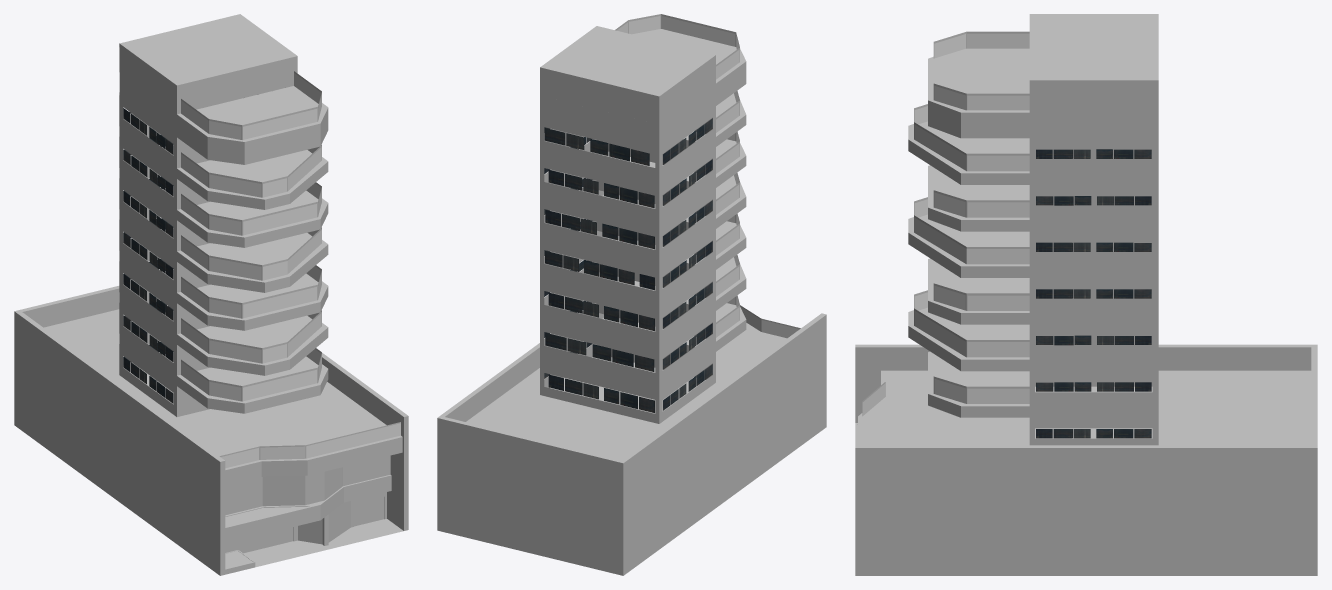
3 renders of one model, left to right at view 1: azimuth 30°, elevation 25°; view 2: azimuth 150°, elevation 25°; view 3: azimuth 270°, elevation 25°, orthographic. The views are drawn at different scales.
Parts seen in each view (by area): view 1: BB-046; view 2: BB-046; view 3: BB-046.
Boxes of the visible parts, x1,y1,x2,y2 form: BB-046: [14, 14, 408, 575]; BB-046: [437, 14, 826, 575]; BB-046: [855, 14, 1317, 575].
Size of what is drawn, in the model's own units: 19.03 by 41.02 by 36.
